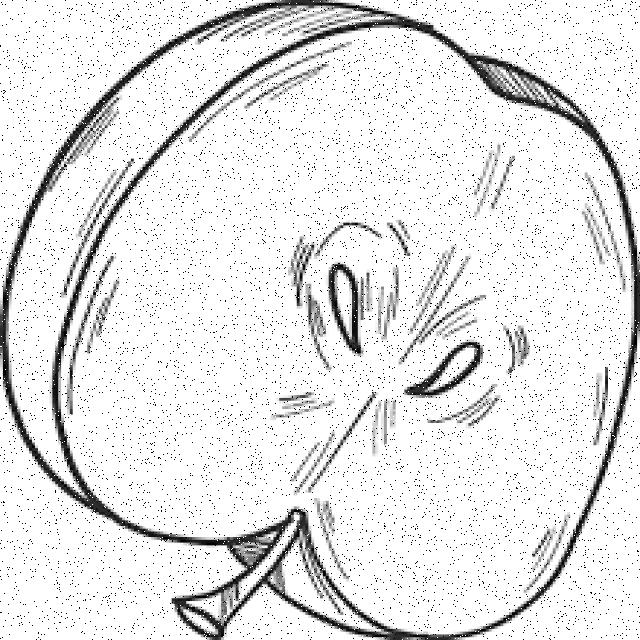Apple: (8, 3, 640, 638)
